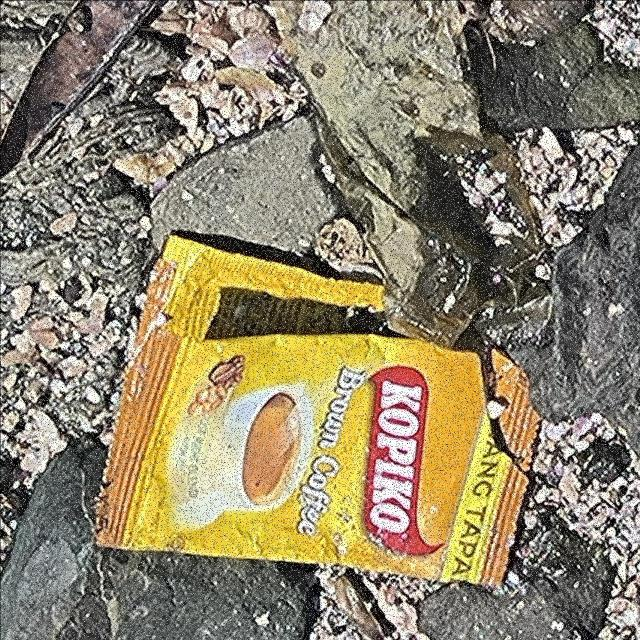plastic_waste: (93, 228, 547, 592)
